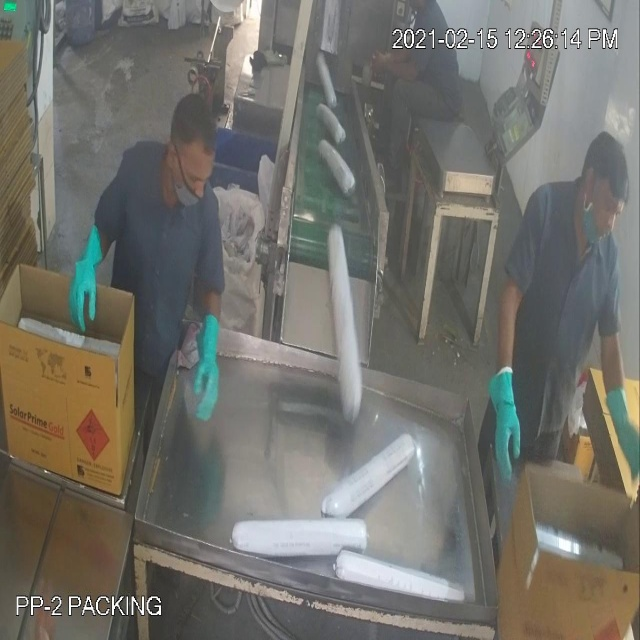Guantes: (56, 211, 99, 332), (485, 354, 521, 497), (186, 303, 221, 440)
Sin_guantes: (364, 44, 423, 90)
